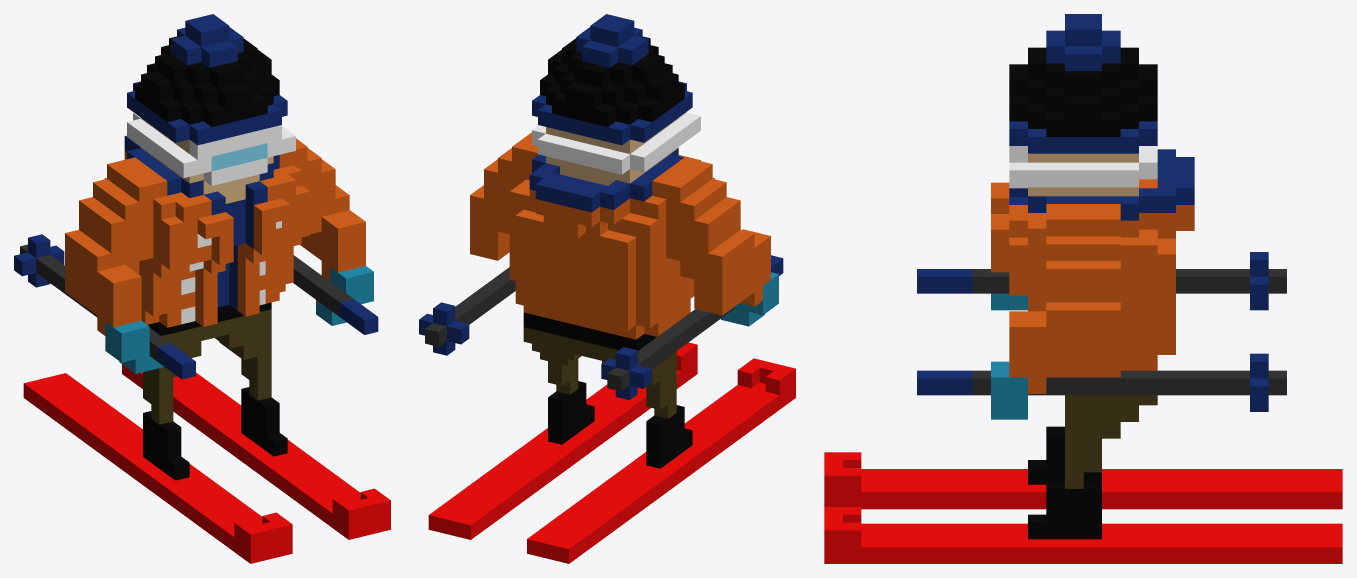
The model's file is Skieur_Chute_01.obj.
3 renders of one model, left to right at view 1: azimuth 30°, elevation 25°; view 2: azimuth 150°, elevation 25°; view 3: azimuth 270°, elevation 25°, orthographic. The views are drawn at different scales.
Bounding box in the file's own units: 18 × 30 × 28.
Materials: 1 (1 with a texture image).
